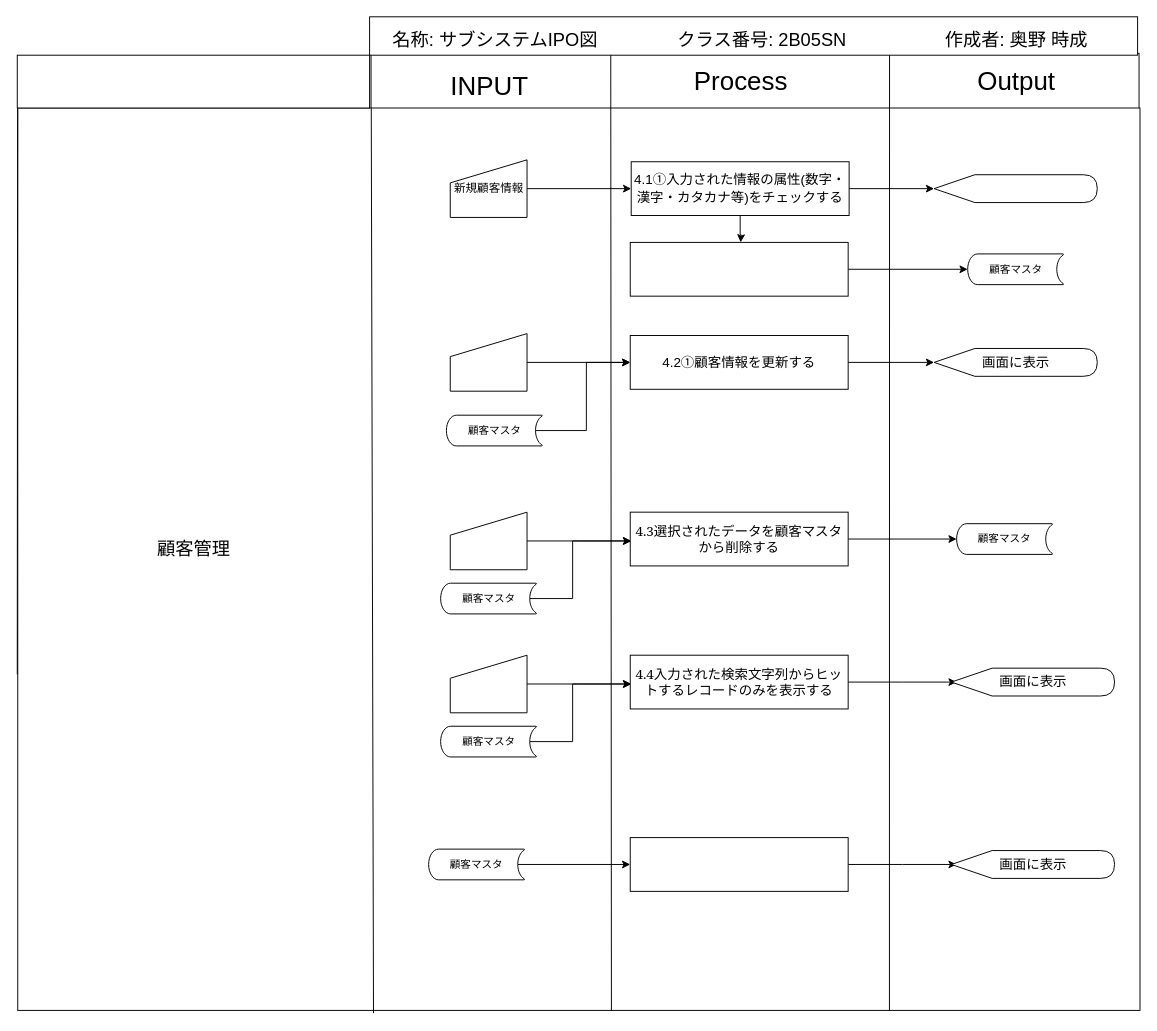
The diagram is 1157 pixels wide and 1031 high, and some of its shapes have lost their labels. The shapes that lost their labels are listed below. From the top down, each one's box as (x1, y1, x2, y2) in pixels, then its label:
(16, 54, 370, 108): 各サブシステムの名称
(933, 174, 1097, 203): エラーメッセージ
(629, 241, 848, 296): ②入力されたデータを顧客マスタへ登録する
(449, 333, 527, 391): 更新
(449, 511, 527, 570): 削除
(449, 654, 527, 713): 検索
(629, 837, 848, 891): 4.5顧客一覧を画面に表示する
